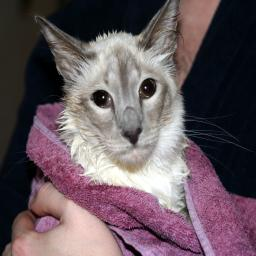catnose: (120, 125, 144, 145)
